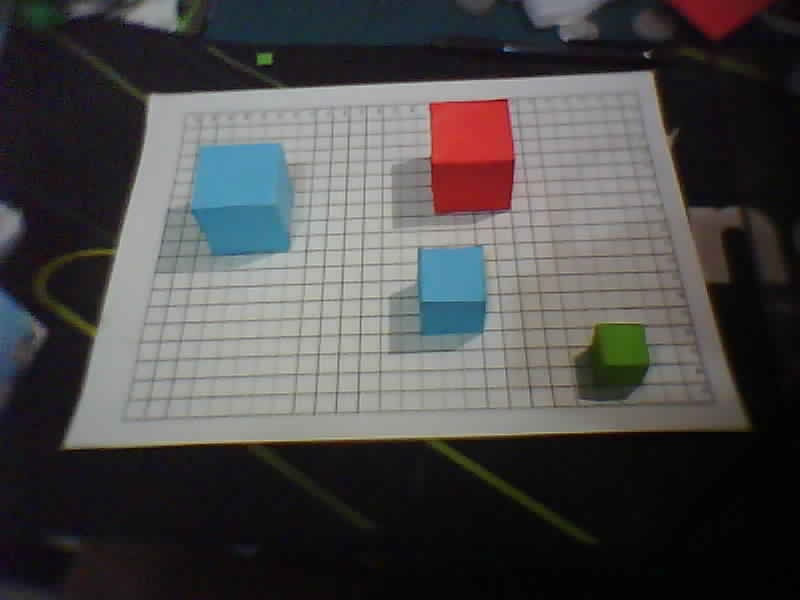LB: (119, 417, 127, 423)
LT: (180, 112, 188, 118)
RB: (710, 398, 718, 404)
RT: (633, 89, 641, 95)
